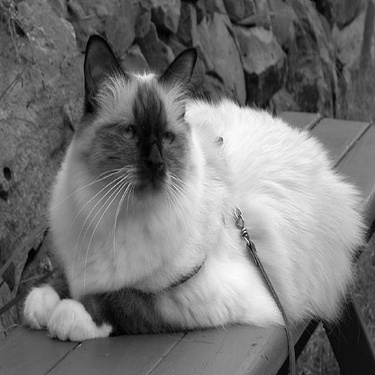cat: (20, 31, 366, 344)
